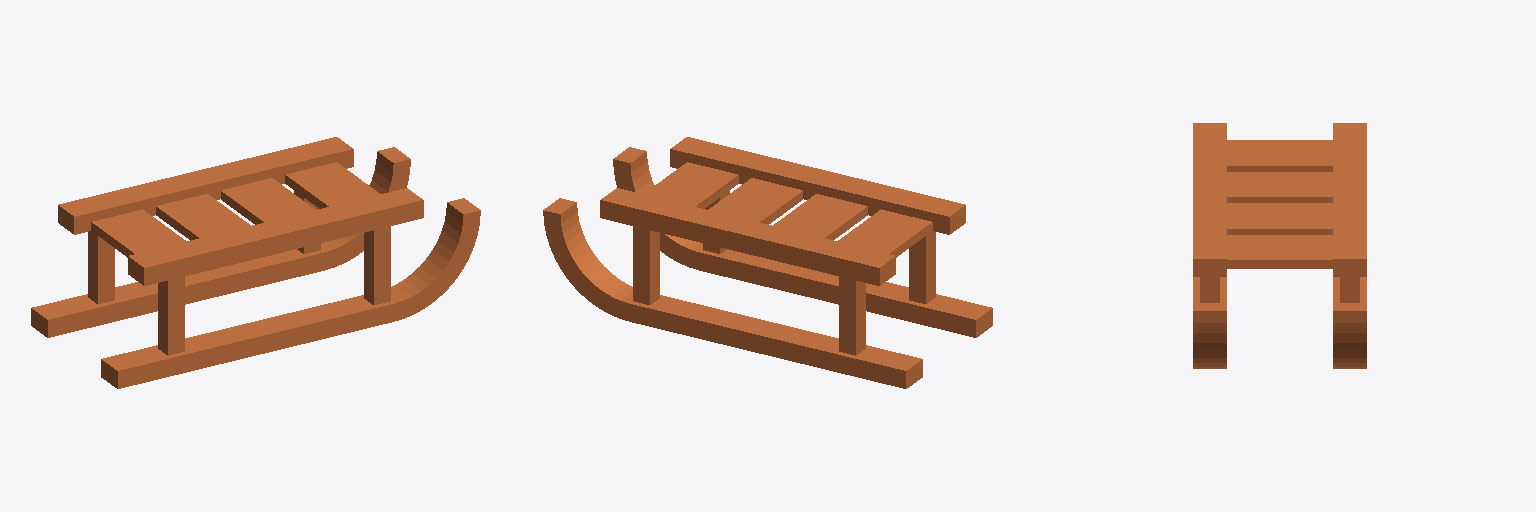
Rendered from sled.obj.
3 renders of one model, left to right at view 1: azimuth 30°, elevation 25°; view 2: azimuth 150°, elevation 25°; view 3: azimuth 270°, elevation 25°, orthographic.
Parts seen in each view (by area): view 1: sled; view 2: sled; view 3: sled.
Boxes of the visible parts, box(x1,y1,x2,y2) form: sled: box(31, 137, 480, 388); sled: box(543, 137, 992, 388); sled: box(1193, 123, 1366, 368).
Bounding box in the file's own units: 0.63 × 0.1901 × 0.26.